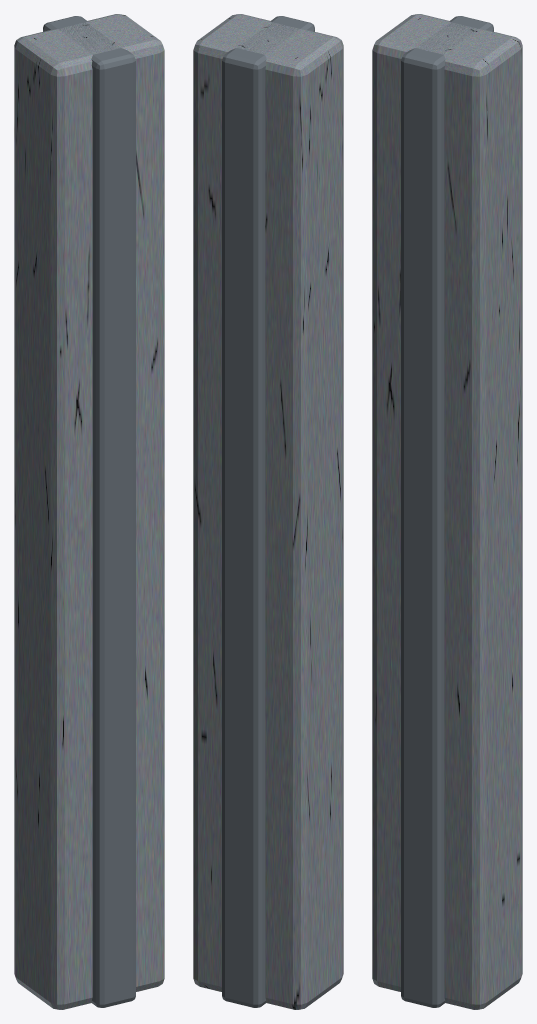
File: beam.glb
3 views of the same model, side by side, from view 1: azimuth 30°, elevation 25°; view 2: azimuth 150°, elevation 25°; view 3: azimuth 330°, elevation 25° (orthographic).
Parts seen in each view (by area): view 1: BeamCore, BeamFlange; view 2: BeamCore, BeamFlange; view 3: BeamCore, BeamFlange.
Boxes of the visible parts, x1=… form: BeamCore: x1=14, y1=14, x2=164, y2=1009; BeamFlange: x1=43, y1=16, x2=135, y2=1007; BeamCore: x1=193, y1=14, x2=343, y2=1009; BeamFlange: x1=222, y1=16, x2=314, y2=1007; BeamCore: x1=372, y1=14, x2=522, y2=1009; BeamFlange: x1=401, y1=16, x2=493, y2=1007.
Size of the model in its own units: 1 by 8 by 0.9.
Materials: 2 (1 with a texture image).
